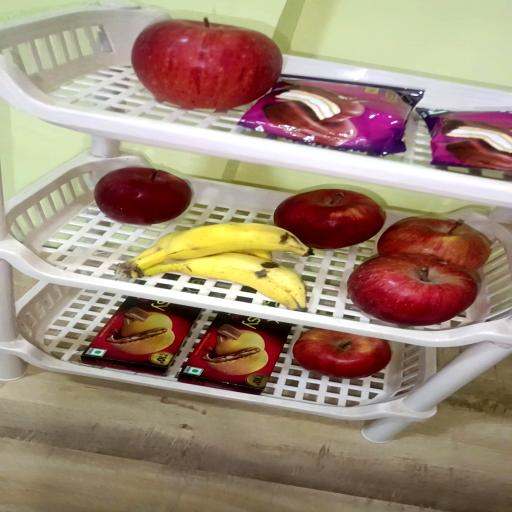Apple: (133, 16, 285, 111), (347, 256, 478, 327), (274, 191, 386, 252), (376, 220, 490, 274), (93, 170, 191, 228), (293, 330, 392, 378)
Choco Fills: (80, 298, 200, 376), (181, 314, 294, 394)
Choco Pie: (238, 75, 426, 154), (417, 108, 511, 170)
